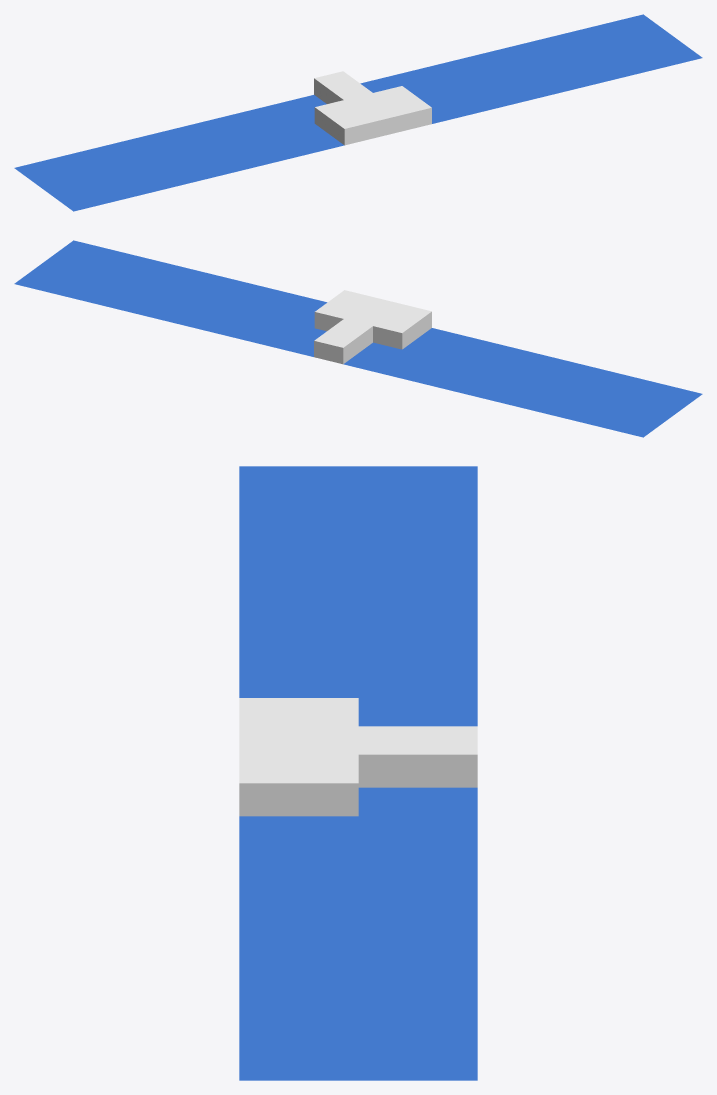
Rendered from RoadHolesCenterRightLeft.fbx.
3 views of the same model, one above another, from view 1: azimuth 30°, elevation 25°; view 2: azimuth 150°, elevation 25°; view 3: azimuth 270°, elevation 25° (orthographic). The views are drawn at different scales.
Parts seen in each view (by area): view 1: RoadHolesCenterRightLeft; view 2: RoadHolesCenterRightLeft; view 3: RoadHolesCenterRightLeft.
Boxes of the visible parts, box(x1,y1,x2,y2) form: RoadHolesCenterRightLeft: box(14, 14, 702, 211); RoadHolesCenterRightLeft: box(14, 240, 702, 437); RoadHolesCenterRightLeft: box(239, 466, 477, 1080).
Size of the model in its own units: 3902 by 97.53 by 640.
